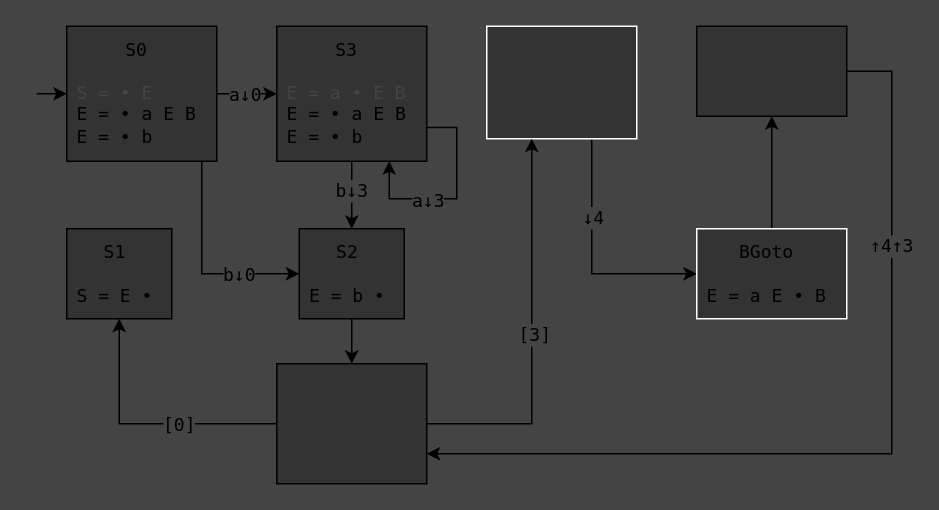
Some shapes in this 939 by 510 pixel diagram are drawn without their labels. The centre of each missing label's shape, as x and y in pixels:
"EGoto E = a • E B S = • E" belongs at (x=351, y=423).
"S4 E = a E • B B = •" belongs at (x=561, y=82).
"S5 E = a E B •" belongs at (x=771, y=70).
